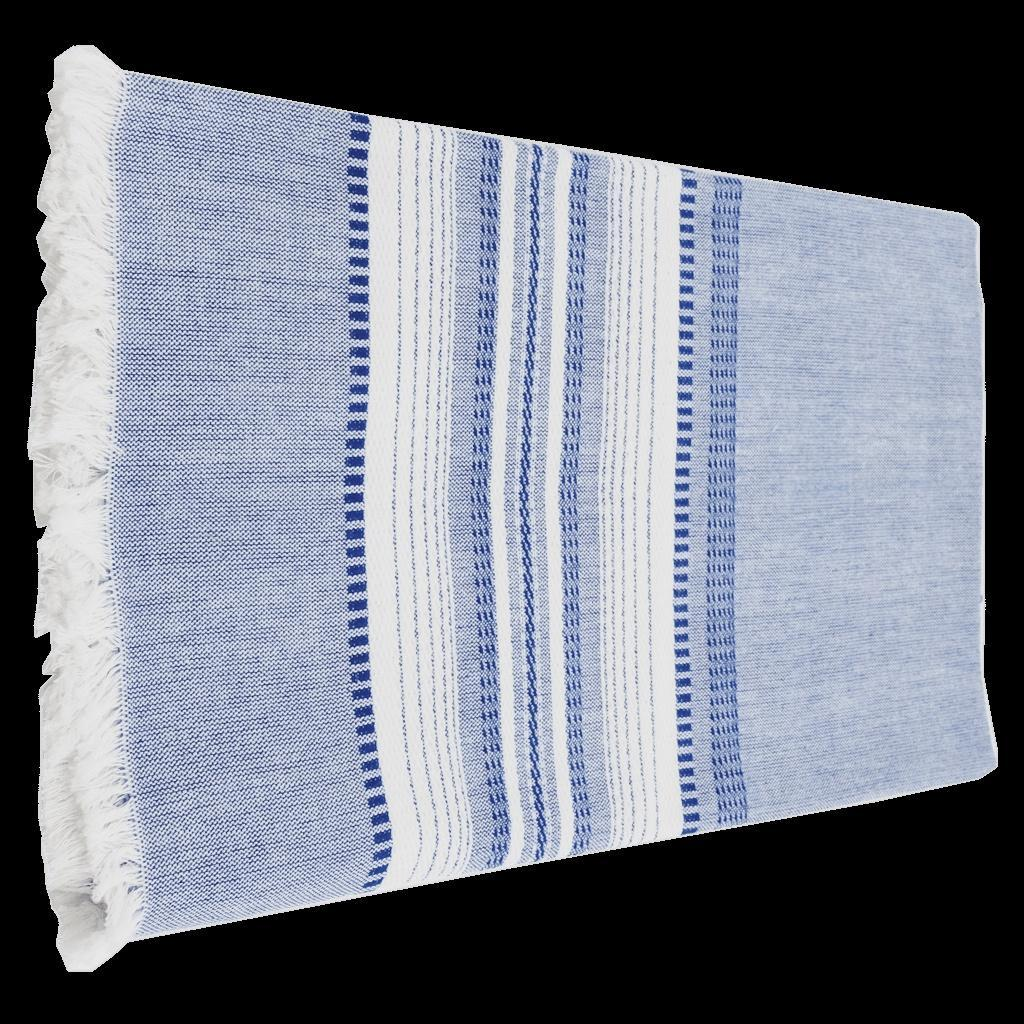towel: (12, 25, 1010, 910)
